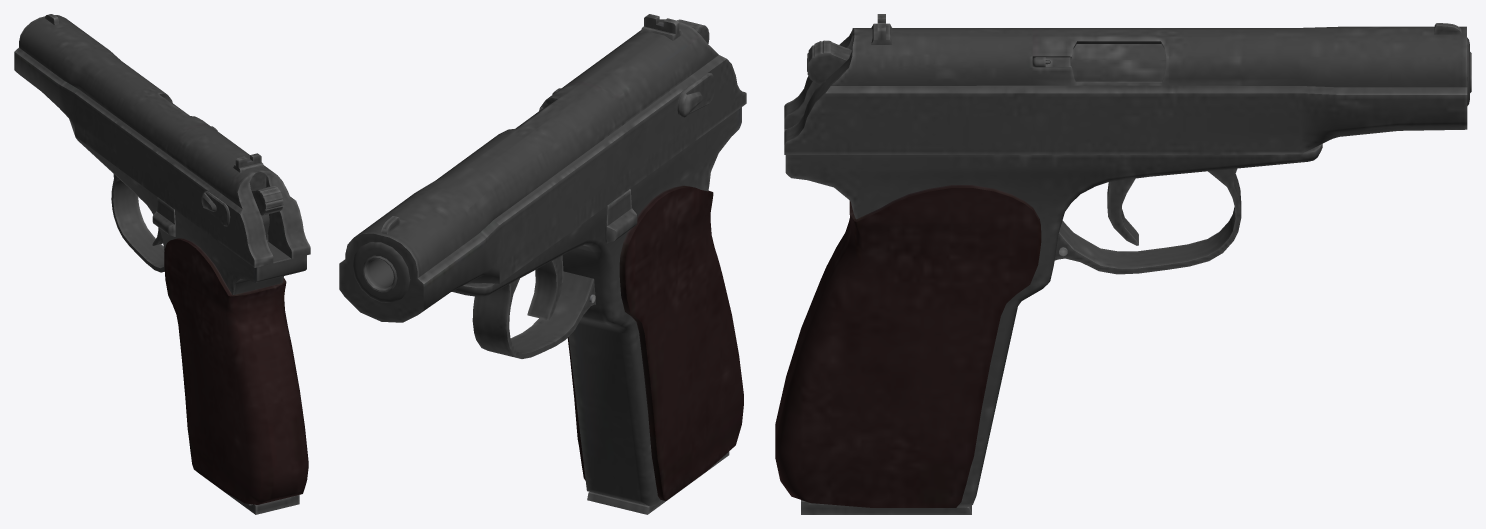
3 views of the same model, side by side, from view 1: azimuth 30°, elevation 25°; view 2: azimuth 150°, elevation 25°; view 3: azimuth 270°, elevation 25° (orthographic). The views are drawn at different scales.
Visible parts, largest first — view 1: Body, Slide, Hammer, Magazine, Safety; view 2: Body, Slide, Trigger, Barrel, Safety, Magazine; view 3: Body, Slide, Barrel, Magazine, Hammer, Trigger.
Part boxes in pixels (x1,y1,x2,y2): Body: (75, 136, 308, 505); Slide: (14, 14, 310, 267); Hammer: (251, 186, 283, 239); Magazine: (196, 471, 299, 514); Safety: (201, 191, 230, 226); Body: (452, 107, 743, 506); Slide: (339, 14, 746, 322); Trigger: (527, 255, 563, 320); Barrel: (363, 103, 551, 292); Safety: (677, 73, 715, 117); Magazine: (587, 451, 729, 514); Body: (775, 144, 1322, 507); Slide: (784, 14, 1469, 154); Barrel: (1071, 44, 1471, 92); Magazine: (801, 500, 971, 514); Hammer: (807, 40, 851, 85); Trigger: (1107, 178, 1138, 245).
Bounding box in the file's own units: 0.0257 × 0.1276 × 0.1685.
1 material, 1 textured.
